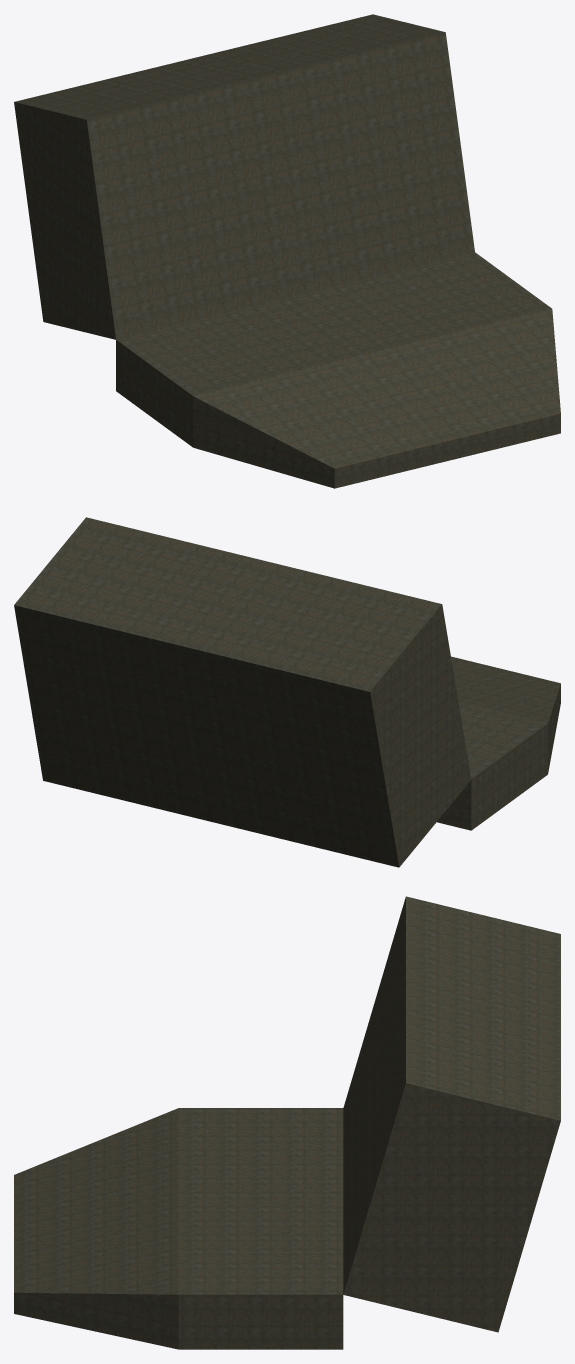
Rendered from deegLargeBlockCover.fbx.
3 renders of one model, top to bottom at view 1: azimuth 30°, elevation 25°; view 2: azimuth 150°, elevation 25°; view 3: azimuth 270°, elevation 25°, orthographic. The views are drawn at different scales.
Parts seen in each view (by area): view 1: Object; view 2: Object; view 3: Object.
Part boxes in pixels (bbox=[...]): Object: bbox=[14, 14, 560, 488]; Object: bbox=[14, 517, 560, 867]; Object: bbox=[14, 896, 560, 1349].
Bounding box in the file's own units: 21200 × 14100 × 26238.
